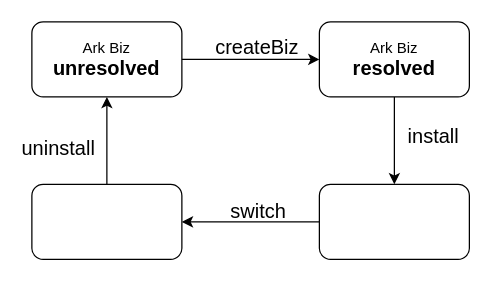
Some shapes in this 493 by 281 pixel diagram are drawn without their labels. The shapes that lost their labels are listed below. From the top down, each one's box as (x1, y1, x2, y2) in pixels, then its label:
(31, 183, 182, 259): Ark Biz deactivated
(318, 183, 469, 259): Ark Biz activated
